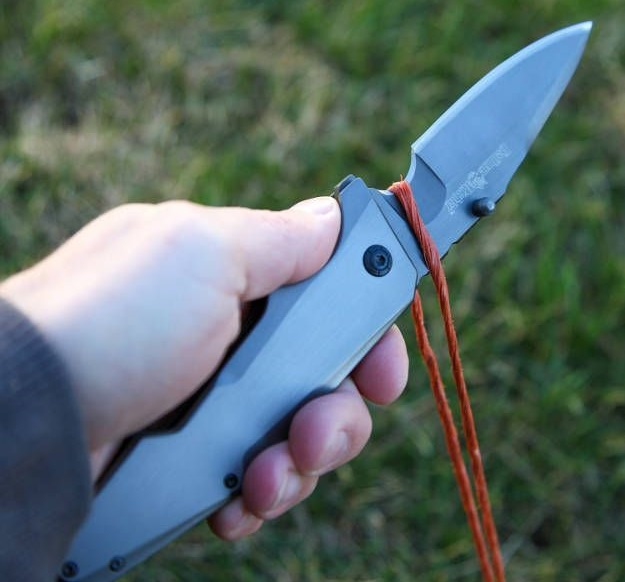knife: (285, 14, 604, 277)
